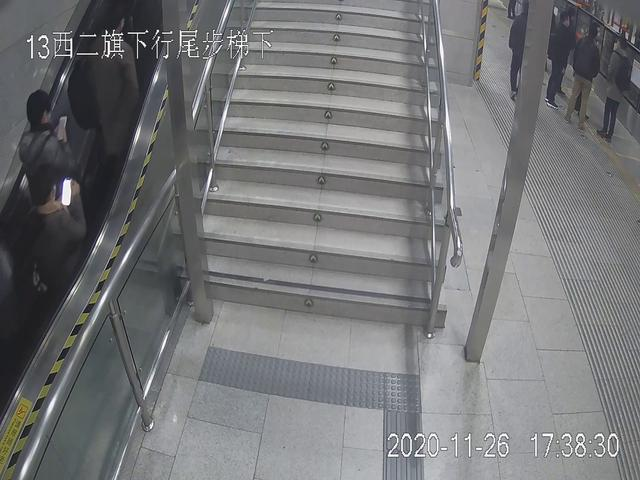person: (15, 84, 85, 223), (17, 165, 77, 326), (599, 32, 636, 154), (568, 23, 605, 131)
